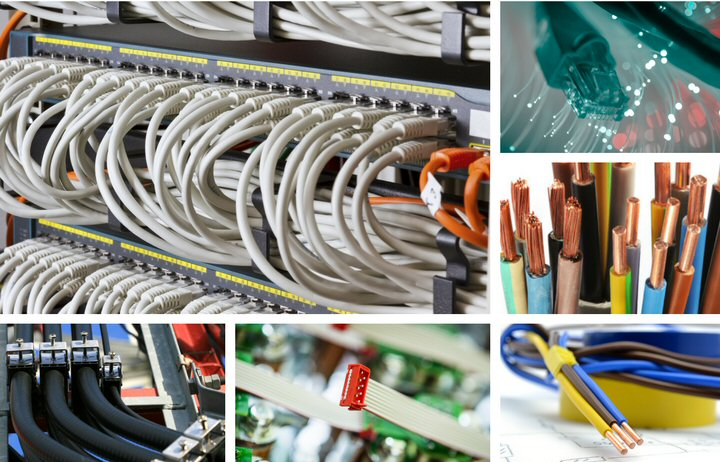Nonrec_Tangler: (3, 48, 469, 294), (505, 160, 718, 306), (508, 319, 711, 447), (512, 3, 711, 132), (12, 344, 188, 455), (284, 356, 481, 445)
